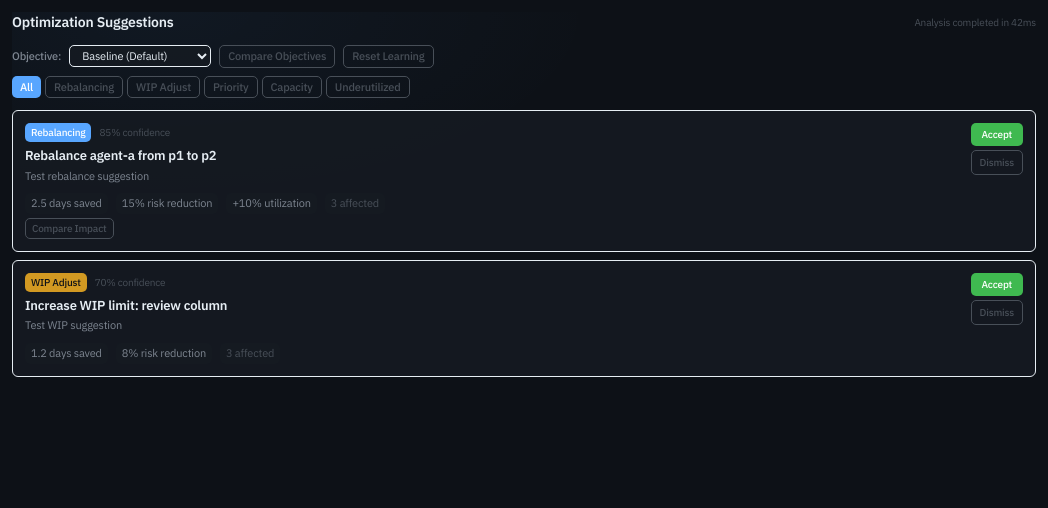
Test: OptimizationPanel — Story 56.10 impact analysis › hides ImpactDetail on second click of Compare Impact
Expected: the heading "Rebalance agent-a from p1 to p2" is shown, [25,147,216,164]
Click the button with aria-label "Compare impact before and after" at (69, 228), box [25,218,114,239]
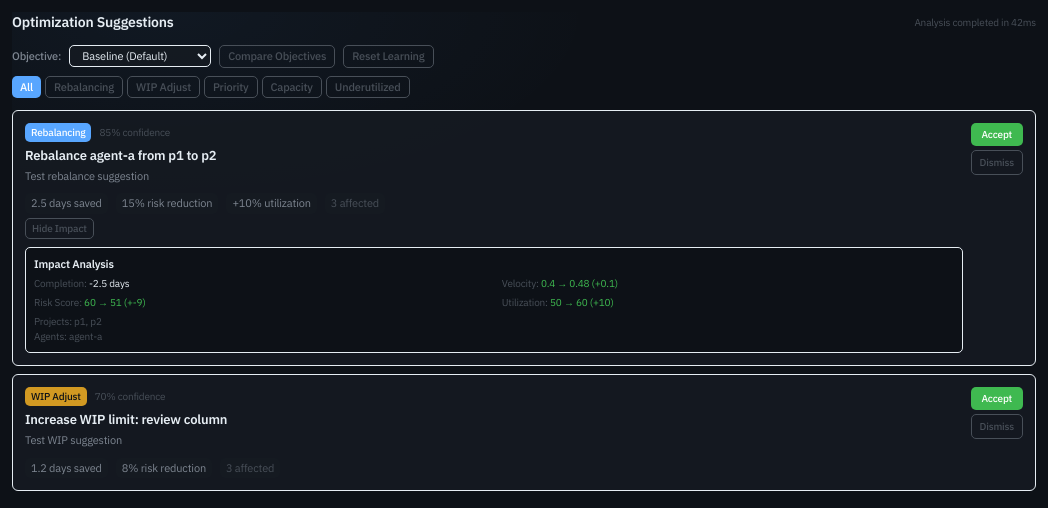
Expected: the heading "Impact Analysis" is shown, [34,257,114,271]
Click again to hide
Click the button with aria-label "Compare impact before and after" at (59, 228), box [25,218,94,239]
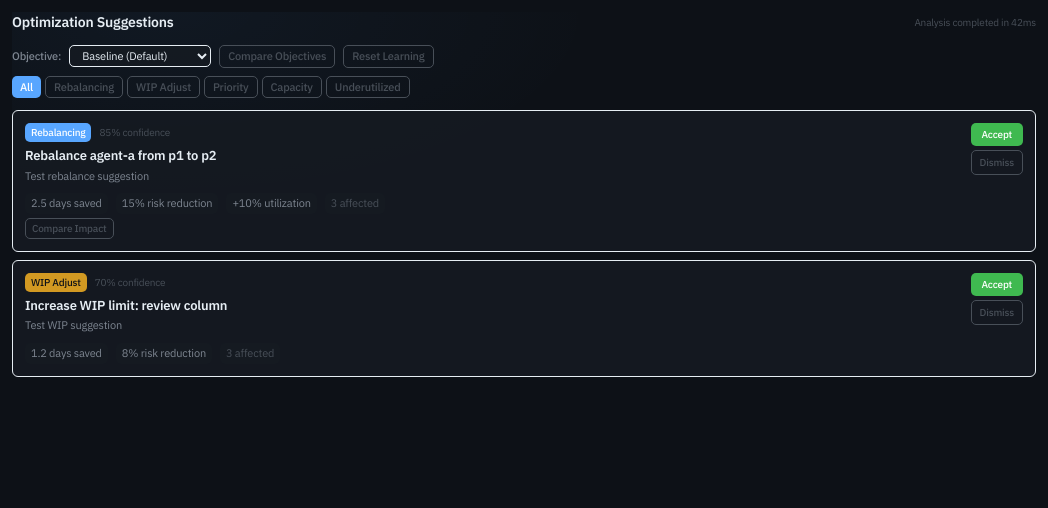
Expected: the heading "Impact Analysis" is gone
